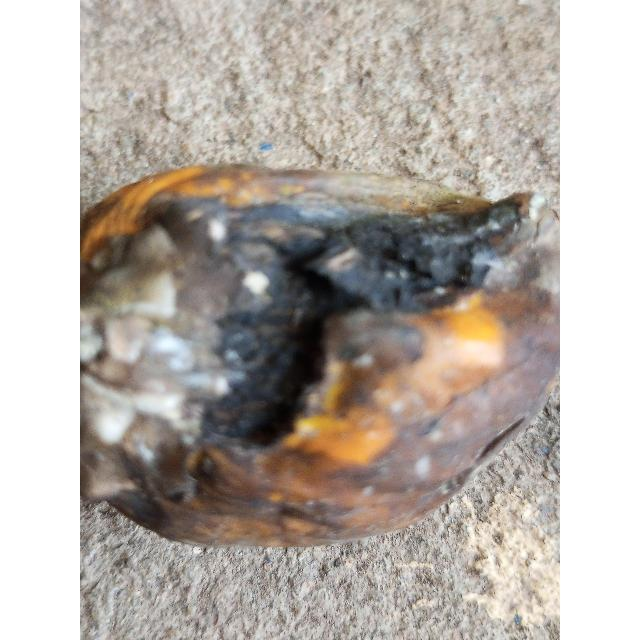damaged: (80, 163, 560, 553)
